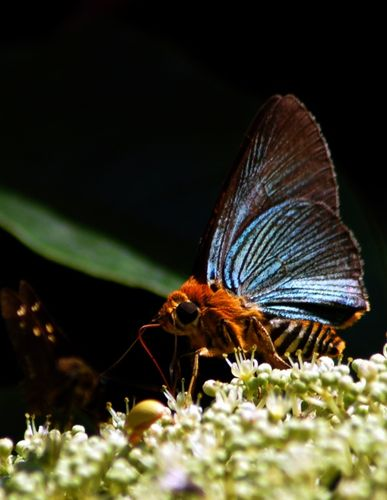Hesperiidae: (139, 96, 367, 389)
